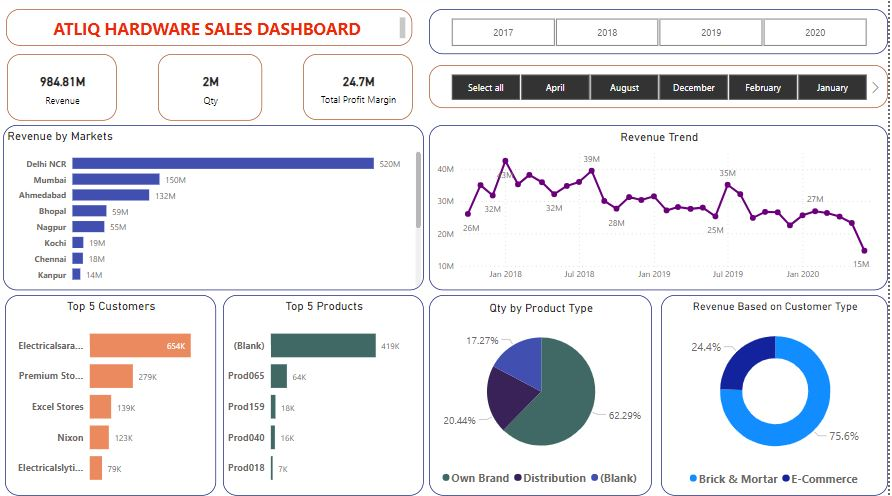

What the dashboard file says about the page in this screenshot:
{"tool":"powerbi","page":{"name":"Key Performance indicators","canvas":[1280,720],"ordinal":0},"visuals":[{"type":"card","fields":{"Values":["sales customers.Ravenu"]},"box":[12,83.5,158.4,96.5],"z":0},{"type":"card","fields":{"Values":["sales customers.Qty"]},"box":[229.4,83.5,149.8,96.5],"z":1000},{"type":"slicer","fields":{"Values":["sales date.year"]},"box":[619.2,18.7,661,64.8],"z":2000},{"type":"lineChart","title":"Revenue Trend","fields":{"Y":["Sum(sales transactions.sales_amount)"],"Category":["sales date.date.Variation.Date Hierarchy.Year","sales date.date.Variation.Date Hierarchy.Quarter","sales date.date.Variation.Date Hierarchy.Month"]},"box":[619.2,185.8,661,237.6],"z":3000},{"type":"card","fields":{"Values":["sales transactions.total Profit margin"]},"box":[438.2,83.5,158.4,95],"z":4000},{"type":"barChart","title":"Top 5 Products","fields":{"Category":["sales products.product_code"],"Y":["sales customers.Qty"]},"box":[322.6,430.6,289.4,289.4],"z":5000},{"type":"barChart","title":"Top 5 Customers","fields":{"Category":["sales customers.custmer_name"],"Y":["sales customers.Qty"]},"box":[8.6,430.6,303.8,289.4],"z":6000},{"type":"donutChart","title":"Revenue Based on Customer Type","fields":{"Category":["sales customers.customer_type"],"Y":["sales customers.Revenu"]},"box":[953.3,430.6,326.9,289.4],"z":7000},{"type":"pieChart","title":"Qty by Product Type","fields":{"Category":["sales products.product_type"],"Y":["sales customers.Qty"]},"box":[619.2,430.6,321.1,289.4],"z":8000},{"type":"clusteredBarChart","title":"Revenue by Markets","fields":{"Category":["sales markets.markets_name"],"Y":["sales customers.Revenue"]},"box":[5.8,185.8,606.2,237.6],"z":9000},{"type":"slicer","fields":{"Values":["sales date.month_name"]},"box":[619.2,99.4,661,61.9],"z":10000},{"type":"textbox","box":[10.1,18.7,584.6,53.3],"z":11000}]}

Visuals, with their boxes in screenshot pixels (x1, y1, x2, y2), scaled from the page's 1280x720 canvas onto the 892x496 screenshot:
card - sales customers.Ravenu: box=[8, 58, 119, 124]
card - sales customers.Qty: box=[160, 58, 264, 124]
slicer - sales date.year: box=[432, 13, 891, 58]
"Revenue Trend" lineChart: box=[432, 128, 891, 292]
card - sales transactions.total Profit margin: box=[305, 58, 416, 123]
"Top 5 Products" barChart: box=[225, 297, 426, 495]
"Top 5 Customers" barChart: box=[6, 297, 218, 495]
"Revenue Based on Customer Type" donutChart: box=[664, 297, 891, 495]
"Qty by Product Type" pieChart: box=[432, 297, 655, 495]
"Revenue by Markets" clusteredBarChart: box=[4, 128, 426, 292]
slicer - sales date.month_name: box=[432, 68, 891, 111]
textbox: box=[7, 13, 414, 50]
